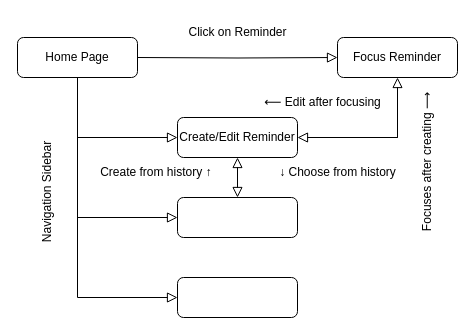
Some shapes in this 475 by 335 pixel diagram are drawn without their labels. The box of each missing label's shape, as (x1, y1, x2, y2) in pixels:
Reminder History: (176, 196, 298, 238)
Settings: (176, 276, 298, 318)
